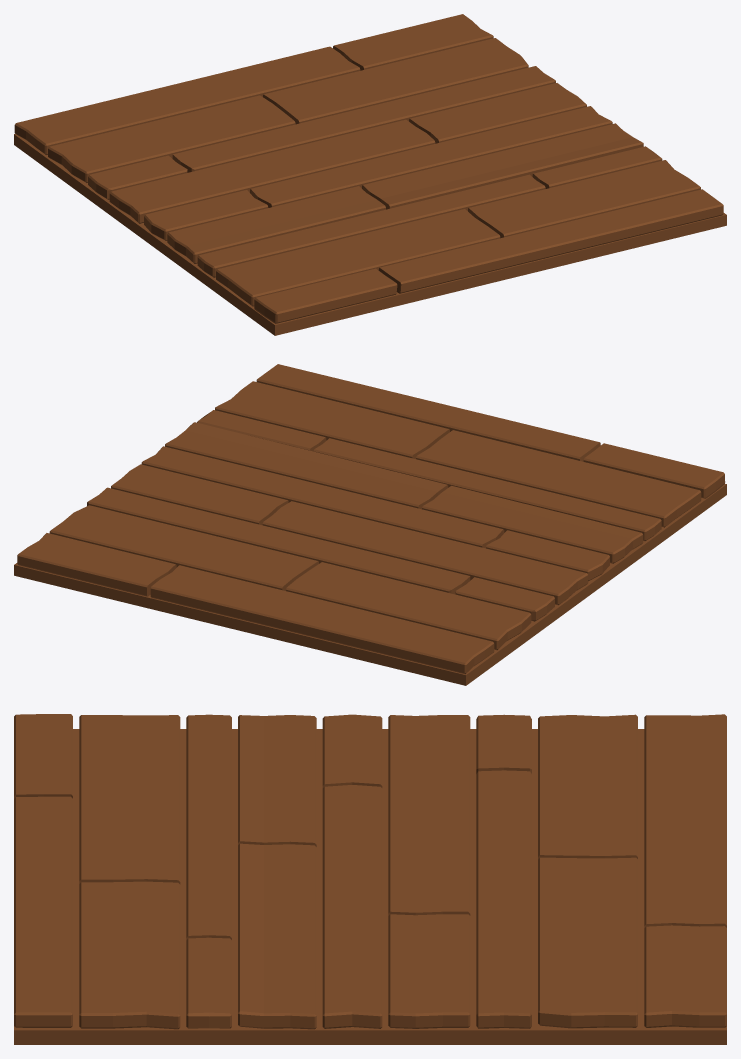
File: ww_floor_b.glb
The picture shows the model from 3 angles, top to bottom: view 1: azimuth 30°, elevation 25°; view 2: azimuth 150°, elevation 25°; view 3: azimuth 270°, elevation 25°; orthographic projection. The views are drawn at different scales.
Parts seen in each view (by area): view 1: Floor_B; view 2: Floor_B; view 3: Floor_B.
Part boxes in pixels (x1,y1,x2,y2): Floor_B: (14, 14, 726, 335); Floor_B: (14, 364, 726, 685); Floor_B: (14, 714, 726, 1044).
Size of the model in its own units: 4.93 by 0.246 by 4.93.
